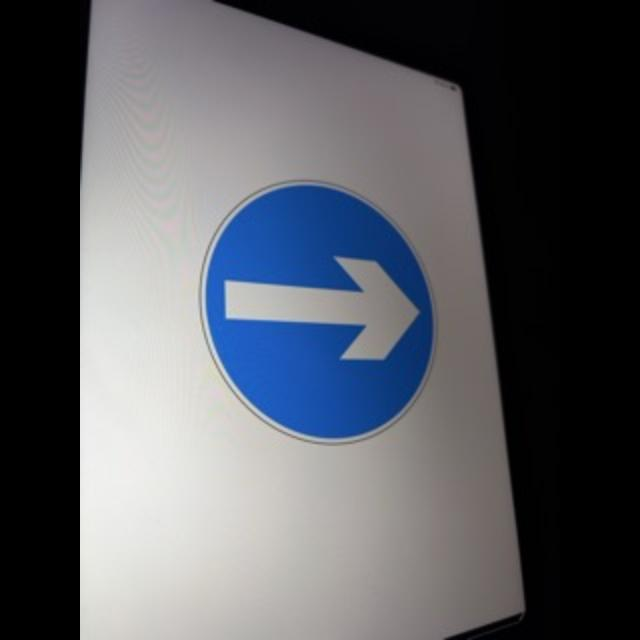TURN RIGHT: (195, 176, 448, 446)
